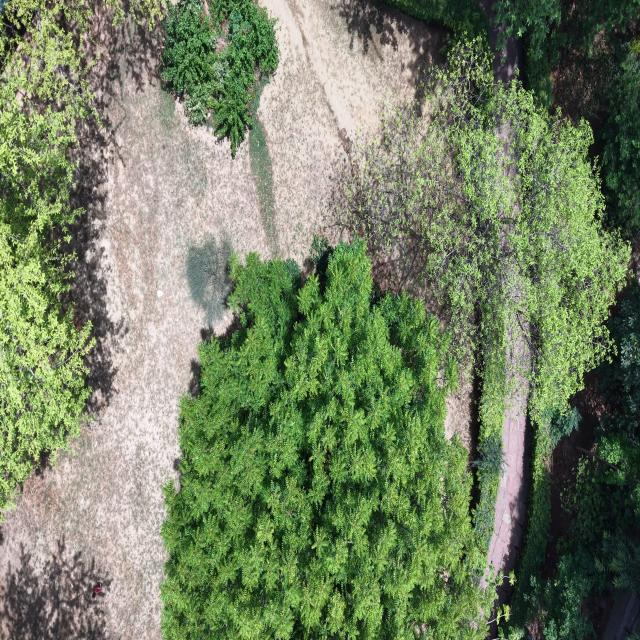DRY_AREA: (0, 0, 443, 639), (488, 326, 530, 605), (488, 376, 531, 605), (488, 380, 530, 605), (488, 387, 530, 575), (478, 0, 522, 83), (445, 376, 477, 461)
VEGETATION_TREE: (162, 0, 639, 639), (348, 0, 639, 639), (347, 40, 629, 545), (161, 239, 492, 639), (0, 0, 92, 512), (511, 285, 639, 639), (512, 320, 638, 638), (494, 0, 639, 238), (504, 409, 585, 638), (161, 0, 278, 154), (507, 408, 580, 638), (493, 0, 639, 104), (508, 421, 552, 638), (598, 285, 639, 517), (528, 544, 604, 639), (603, 38, 639, 237), (473, 361, 506, 551), (248, 78, 278, 255), (386, 0, 489, 45), (389, 0, 488, 42), (186, 237, 231, 326), (493, 0, 560, 58), (596, 509, 639, 591), (105, 0, 166, 30), (549, 408, 581, 448)
